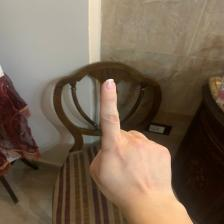one: (88, 78, 180, 214)
